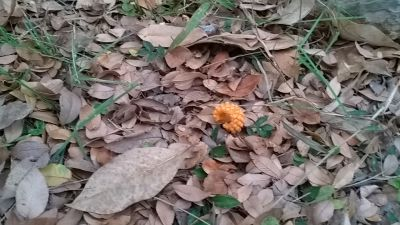eggs: (212, 100, 248, 135)
